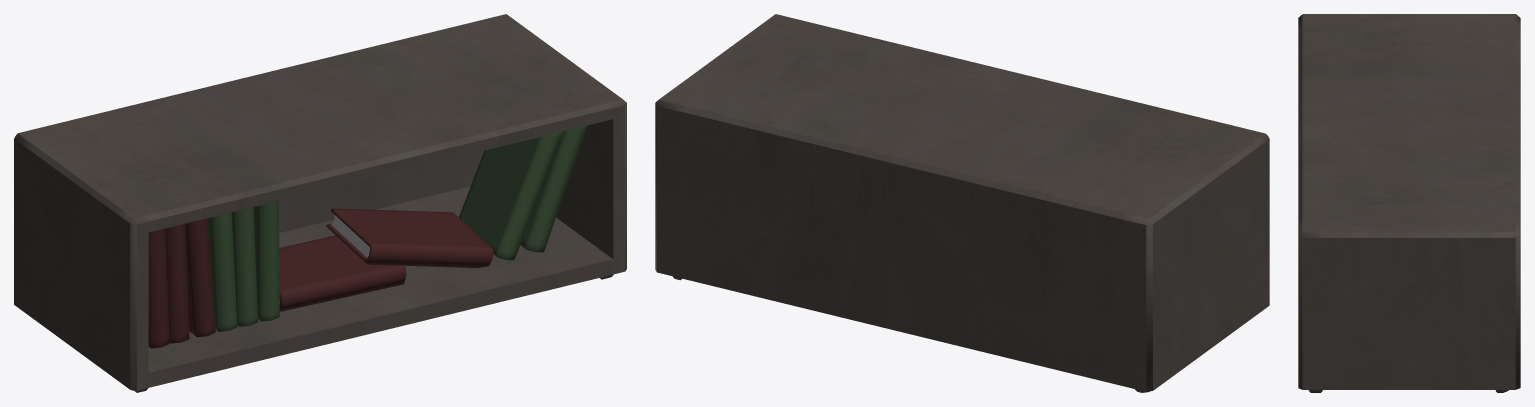
File: wooden_shelf_books.glb
3 views of the same model, side by side, from view 1: azimuth 30°, elevation 25°; view 2: azimuth 150°, elevation 25°; view 3: azimuth 270°, elevation 25° (orthographic). The views are drawn at different scales.
Visible parts, largest first — view 1: WoodenShelfBooks; view 2: WoodenShelfBooks; view 3: WoodenShelfBooks.
Boxes of the visible parts, x1,y1,x2,y2 form: WoodenShelfBooks: (14, 14, 626, 392); WoodenShelfBooks: (655, 14, 1269, 392); WoodenShelfBooks: (1298, 14, 1520, 392).
Size of the model in its own units: 1.76 by 0.6072 by 0.7452.
Materials: 4 (1 with a texture image).
